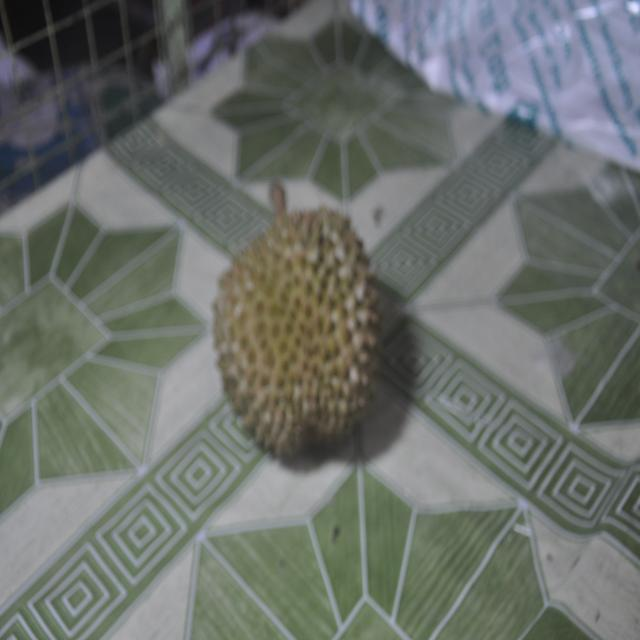mature: (203, 163, 394, 473)
